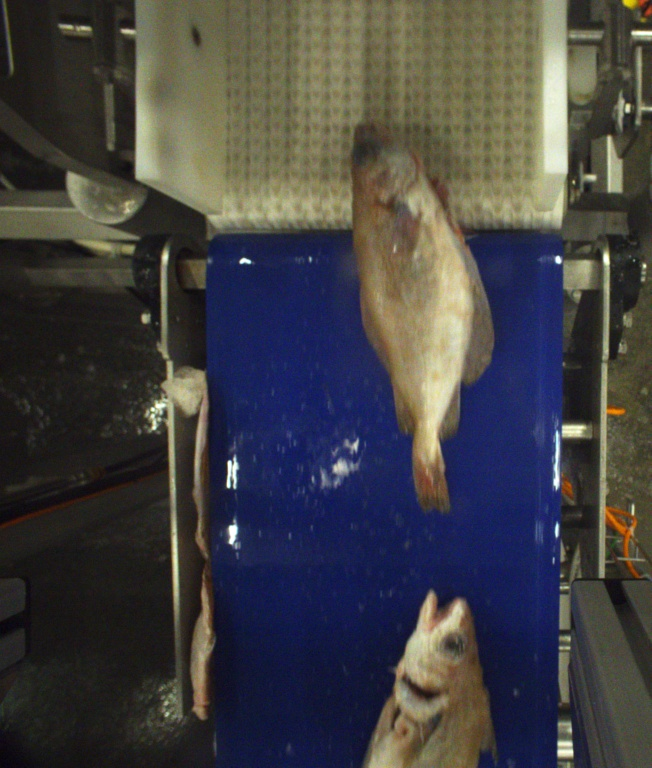BIB: (350, 590, 501, 768)
